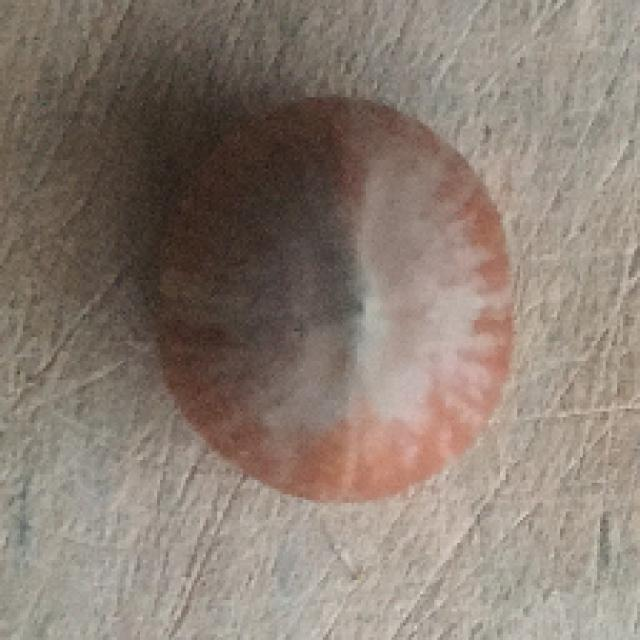qualityHazelnut: (136, 82, 526, 513)
